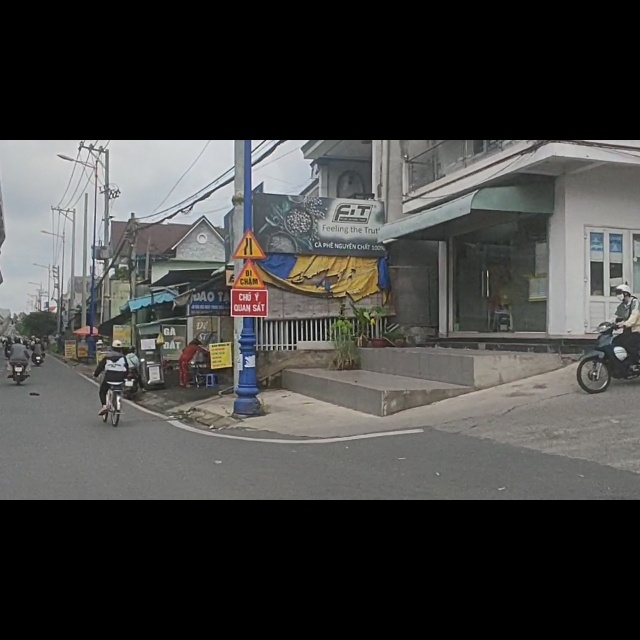Đi chậm: (231, 259, 266, 290)
Đường bị hẹp bên trái: (232, 230, 266, 260)
